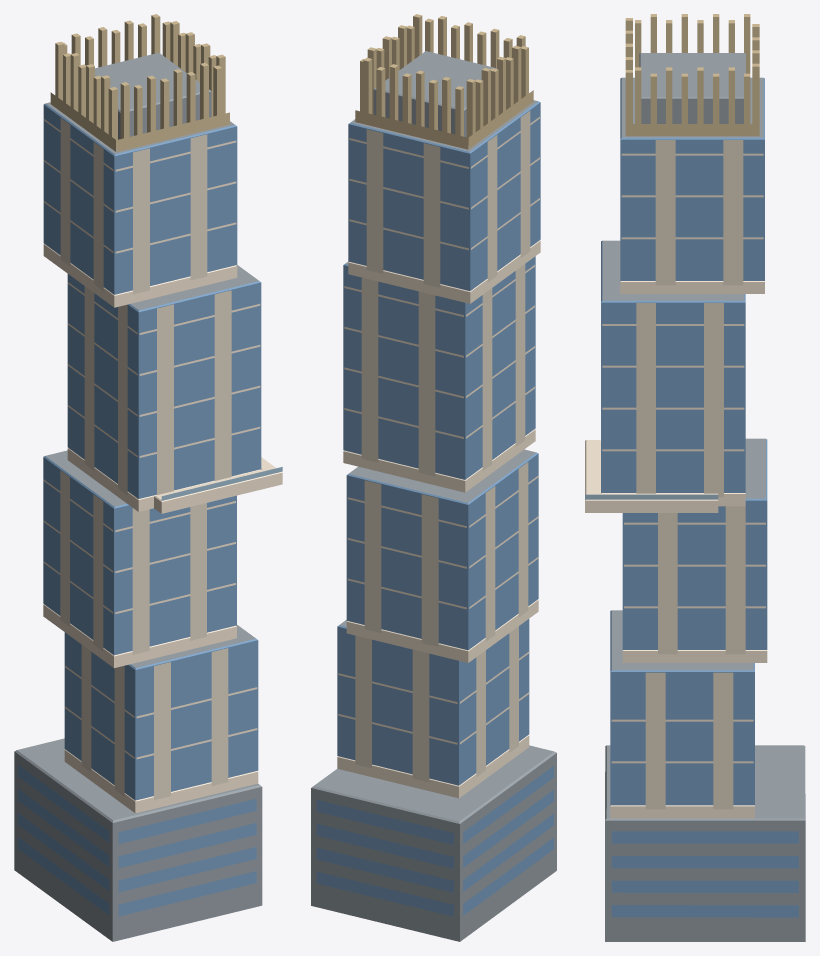
The model's file is atx-the-independent.glb.
3 renders of one model, left to right at view 1: azimuth 30°, elevation 25°; view 2: azimuth 150°, elevation 25°; view 3: azimuth 270°, elevation 25°, orthographic. The views are drawn at different scales.
Parts seen in each view (by area): view 1: The Independent; view 2: The Independent; view 3: The Independent.
Boxes of the visible parts, <box> form: The Independent: <box>14,14,282,941</box>; The Independent: <box>311,14,556,941</box>; The Independent: <box>585,14,805,941</box>.
Size of the model in its own units: 41.8 by 210 by 48.85.
